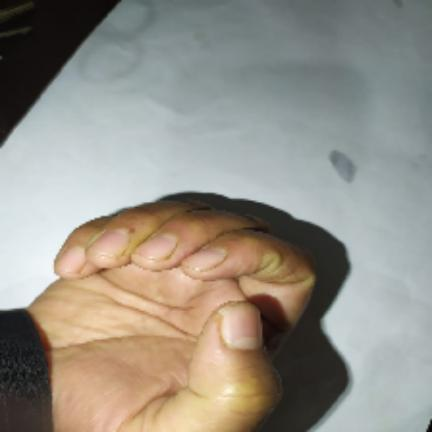Nail: (219, 301, 263, 350), (136, 235, 177, 261), (183, 248, 227, 271), (93, 230, 129, 256), (57, 246, 86, 272)
